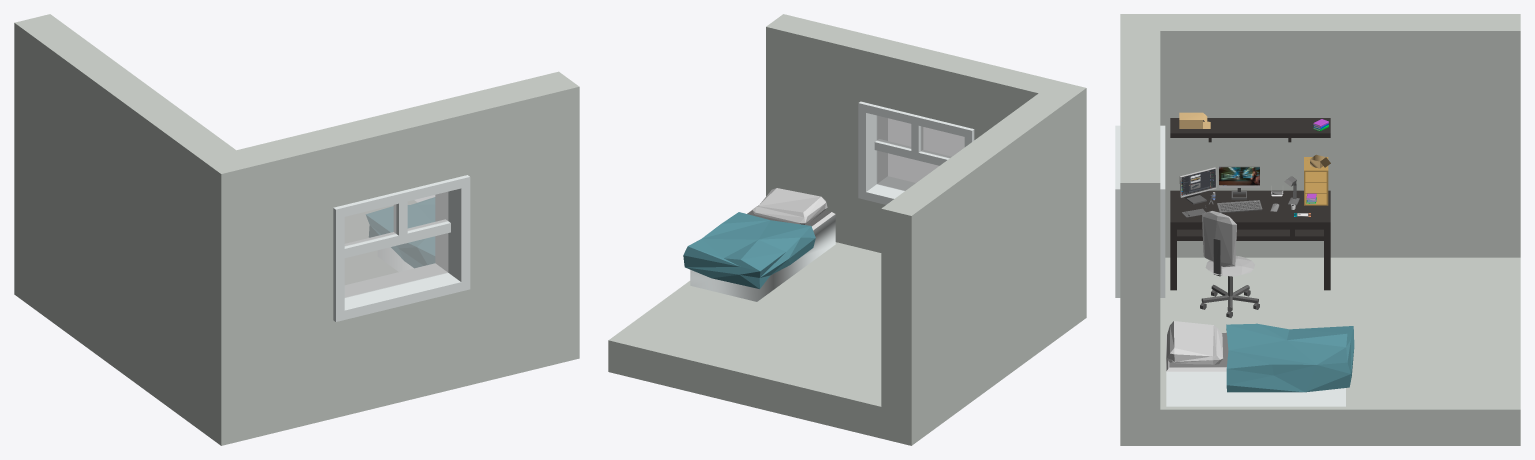
Rendered from mainroomv2.glb.
3 renders of one model, left to right at view 1: azimuth 30°, elevation 25°; view 2: azimuth 150°, elevation 25°; view 3: azimuth 270°, elevation 25°, orthographic. The views are drawn at different scales.
Visible parts, largest first — view 1: Room_2, Glass, Frame, Hole_2, Cube_1, Cube_13; view 2: Room_2, Cube_1, Glass, Cube, Frame, Hole_2, Cube_2, Cube_13; view 3: Room_2, Cube_1, Table_4, Cube, Table_1, Cube_2, Frame, Capsule, Table_2_2, Cube_3, Cube_4, Sphere (+2 smaller).
Boxes of the visible parts, x1,y1,x2,y2 form: Room_2: (14, 14, 579, 445); Glass: (344, 192, 448, 297); Frame: (333, 175, 470, 321); Hole_2: (344, 188, 461, 310); Cube_1: (366, 197, 434, 267); Cube_13: (344, 219, 450, 257); Room_2: (608, 14, 1086, 445); Cube_1: (683, 212, 815, 288); Glass: (877, 115, 964, 190); Cube: (690, 205, 835, 301); Frame: (858, 101, 974, 204); Hole_2: (866, 113, 915, 198); Cube_2: (752, 188, 827, 224); Cube_13: (874, 139, 951, 165); Room_2: (1120, 14, 1520, 445); Cube_1: (1226, 323, 1354, 392); Table_4: (1170, 190, 1330, 290); Cube: (1166, 333, 1345, 406); Table_1: (1170, 118, 1330, 137); Cube_2: (1167, 321, 1222, 364); Frame: (1115, 125, 1165, 297); Capsule: (1202, 211, 1236, 266); Table_2_2: (1177, 229, 1323, 240); Cube_3: (1219, 167, 1259, 185); Cube_4: (1181, 169, 1215, 196); Sphere: (1205, 255, 1255, 276).
Size of the model in its own units: 401 by 290 by 405.
38 materials, 3 textured.
